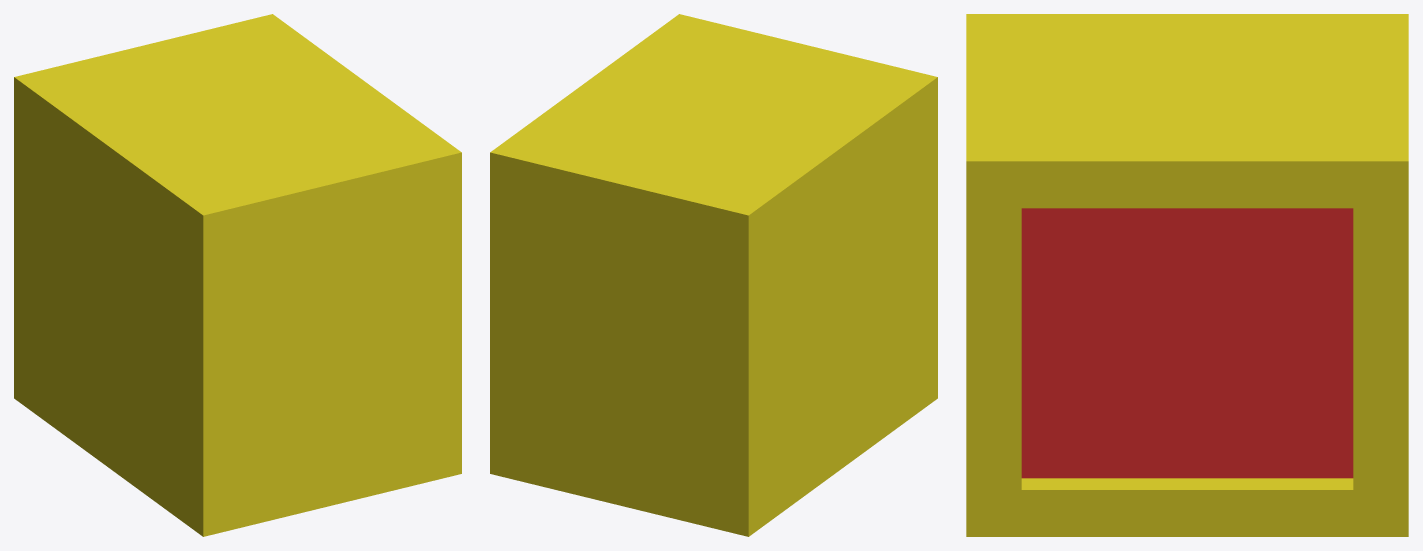
File: FakeTV.fbx
3 views of the same model, side by side, from view 1: azimuth 30°, elevation 25°; view 2: azimuth 150°, elevation 25°; view 3: azimuth 270°, elevation 25° (orthographic). The views are drawn at different scales.
Parts seen in each view (by area): view 1: Cube; view 2: Cube; view 3: Cube.
Part boxes in pixels (x1,y1,x2,y2): Cube: [14, 14, 461, 536]; Cube: [490, 14, 937, 536]; Cube: [966, 14, 1408, 536].
Size of the model in its own units: 168 by 200 by 213.
